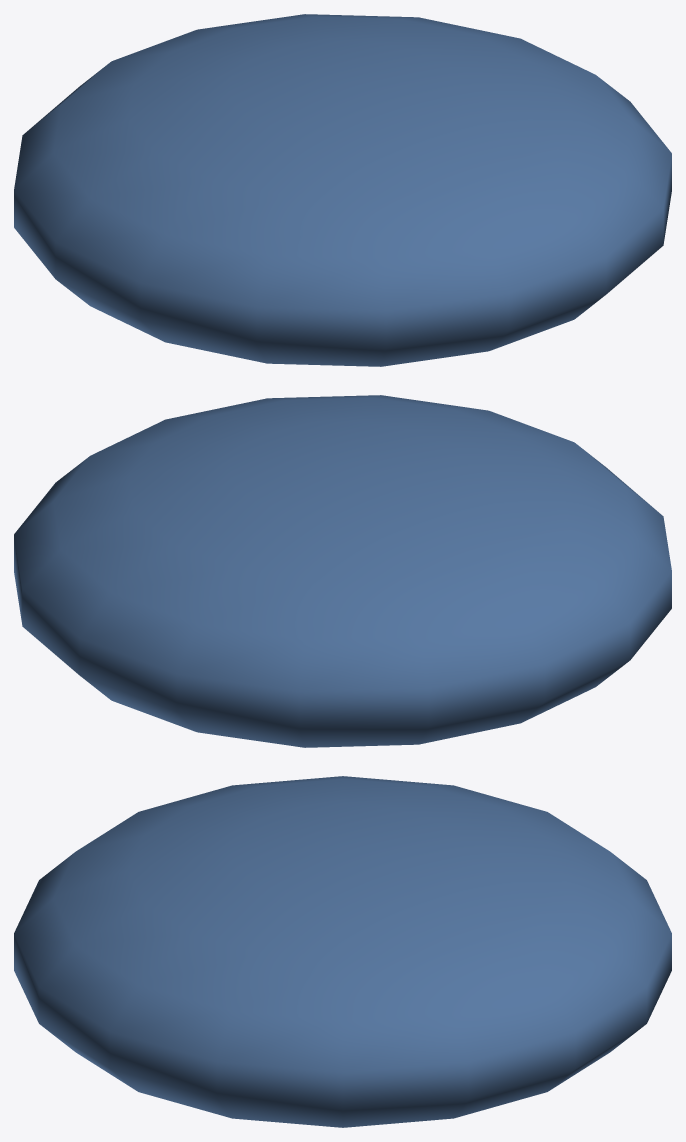
The model's file is cushion.glb.
The picture shows the model from 3 angles, top to bottom: view 1: azimuth 30°, elevation 25°; view 2: azimuth 150°, elevation 25°; view 3: azimuth 270°, elevation 25°; orthographic projection.
Parts seen in each view (by area): view 1: _MeshInstance3D_1204; view 2: _MeshInstance3D_1204; view 3: _MeshInstance3D_1204.
Boxes of the visible parts, bbox=[...] form: _MeshInstance3D_1204: bbox=[14, 14, 671, 366]; _MeshInstance3D_1204: bbox=[14, 395, 671, 747]; _MeshInstance3D_1204: bbox=[14, 776, 671, 1127].
Size of the model in its own units: 0.4727 by 0.17 by 0.4727.
